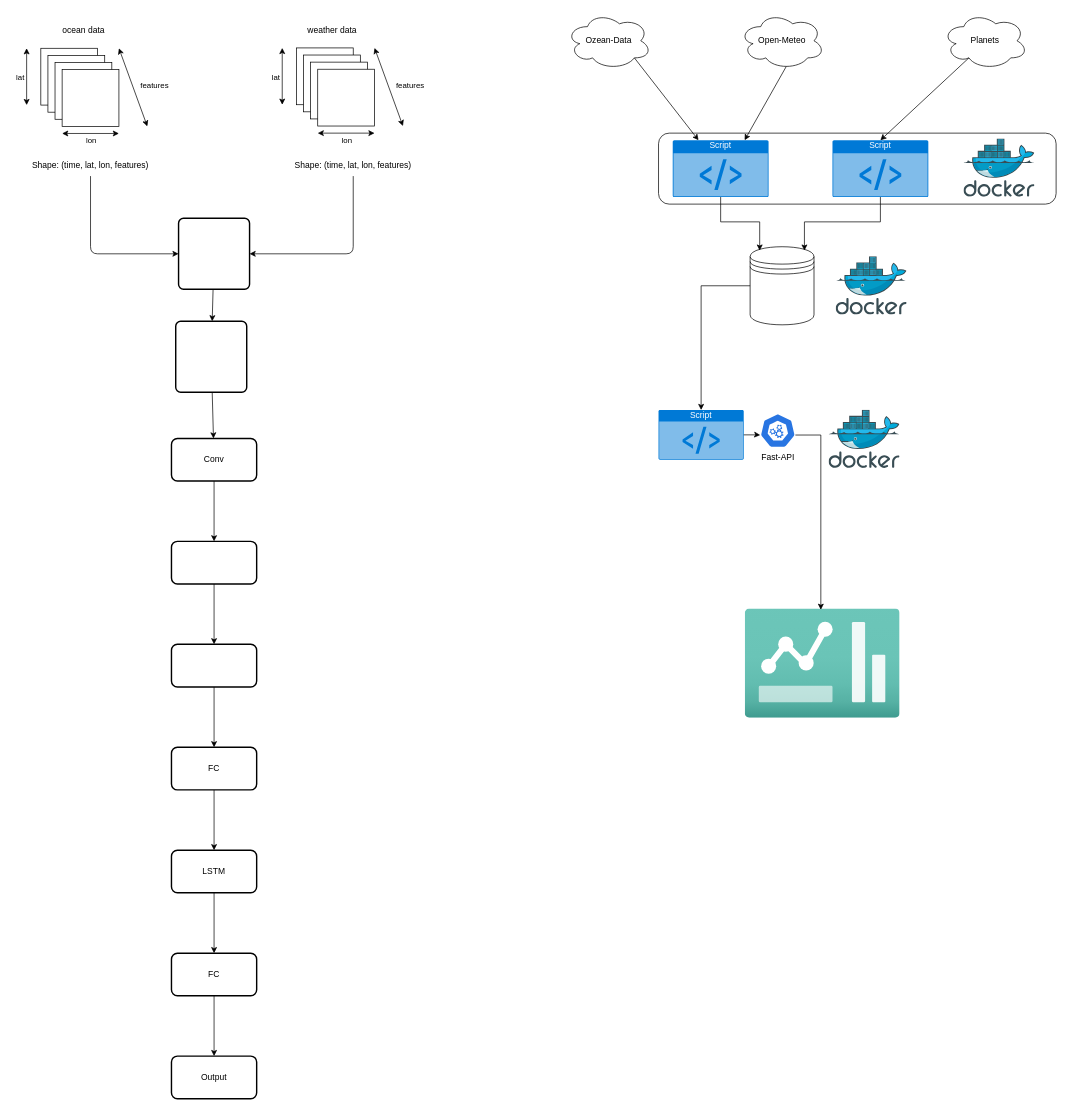
Some shapes in this 1069 by 1112 pixel diagram are drawn without their labels. Each missing label, with the centre of its shape:
"Dashboard" belongs at (x=822, y=663).
"Data Base" belongs at (x=781, y=285).
"Input" belongs at (x=211, y=356).
"Merge" belongs at (x=214, y=253).
"Pooling" belongs at (x=213, y=562).
"Relu" belongs at (x=213, y=665).
